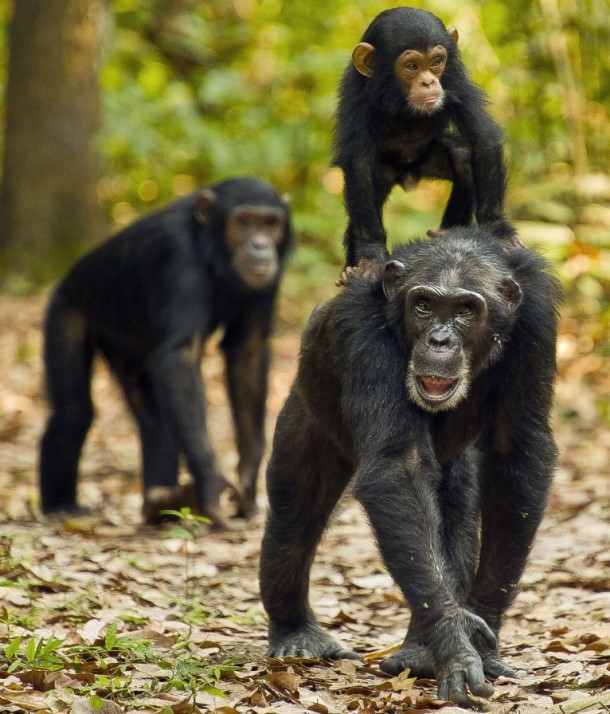Chimpanzee: (228, 243, 584, 636), (23, 174, 332, 501), (325, 2, 506, 269)
